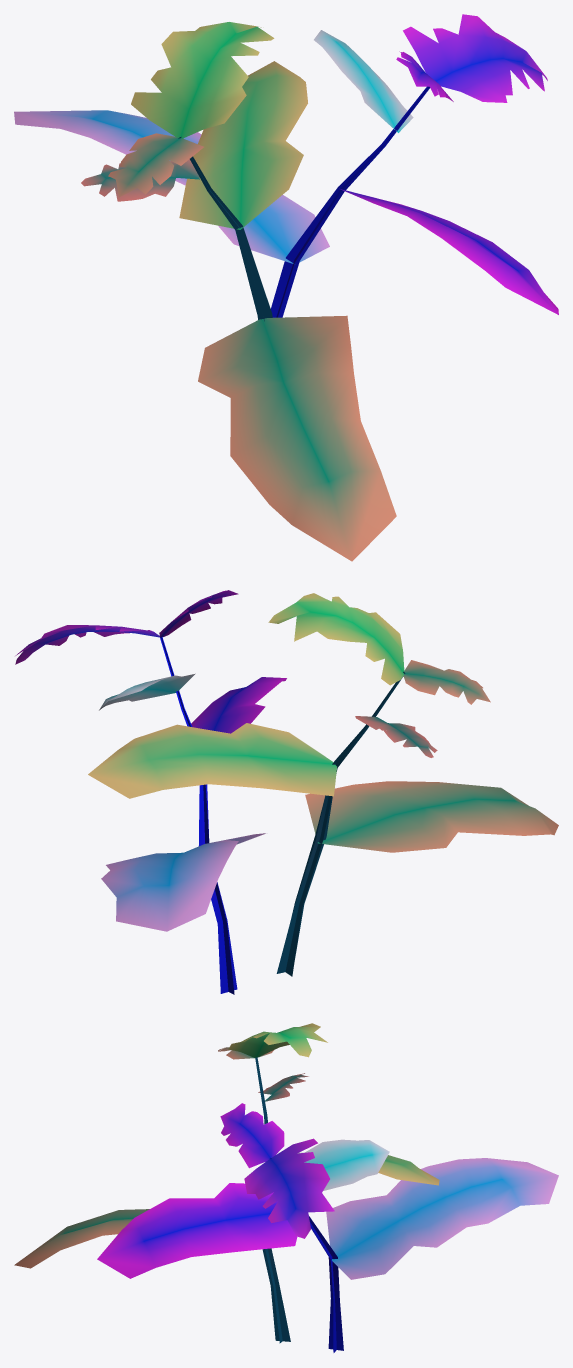
File: Black_Locust_wdvhberja_Mid_wdvhberja_VarF_LOD1.fbx
3 renders of one model, top to bottom at view 1: azimuth 30°, elevation 25°; view 2: azimuth 150°, elevation 25°; view 3: azimuth 270°, elevation 25°, orthographic. The views are drawn at different scales.
Parts seen in each view (by area): view 1: _jtgi_VarF_LOD2; view 2: _jtgi_VarF_LOD2; view 3: _jtgi_VarF_LOD2.
Part boxes in pixels (left/top/right/bottom): _jtgi_VarF_LOD2: left=14, top=14, right=558, bottom=561; _jtgi_VarF_LOD2: left=15, top=590, right=558, bottom=994; _jtgi_VarF_LOD2: left=14, top=1023, right=558, bottom=1352.
Bounding box in the file's own units: 20.46 × 17.15 × 28.67.
